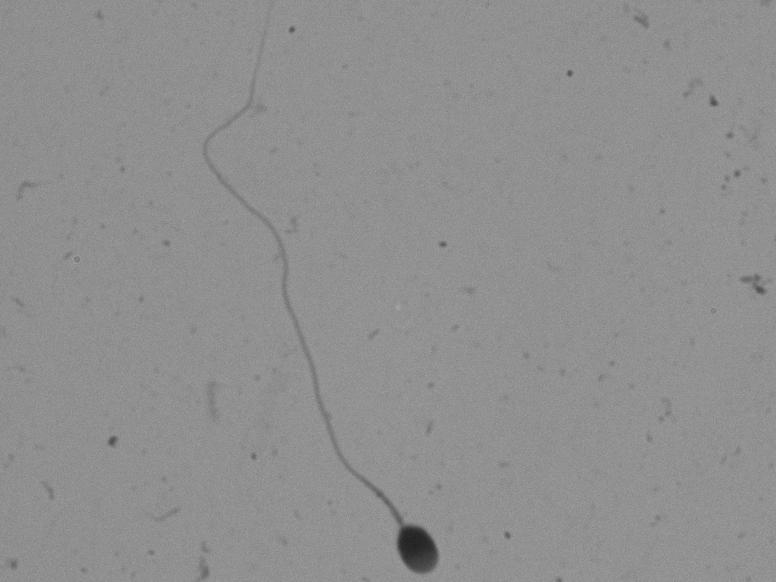Normal: (157, 11, 470, 578)
